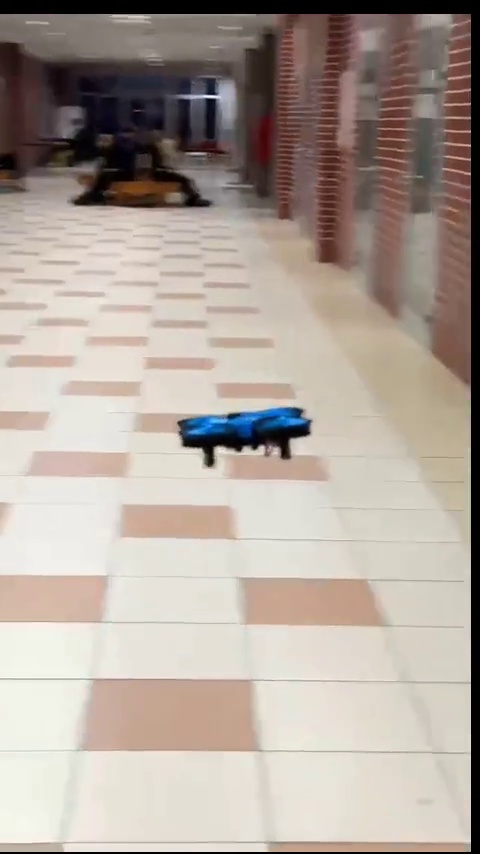drone: (175, 406, 316, 464)
